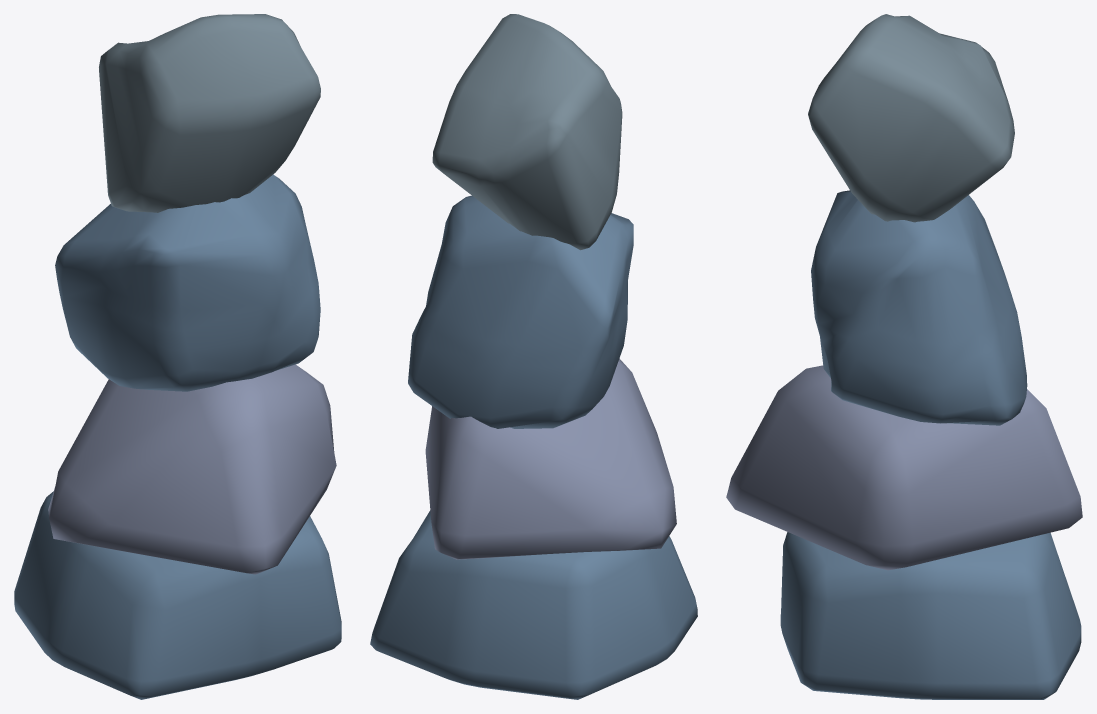
The model's file is StonePillarV3.gltf.
3 views of the same model, side by side, from view 1: azimuth 30°, elevation 25°; view 2: azimuth 150°, elevation 25°; view 3: azimuth 270°, elevation 25° (orthographic). The views are drawn at different scales.
Visible parts, largest first — view 1: StonePillarV3; view 2: StonePillarV3; view 3: StonePillarV3.
Boxes of the visible parts, x1=… form: StonePillarV3: x1=14, y1=14, x2=341, y2=699; StonePillarV3: x1=370, y1=14, x2=697, y2=699; StonePillarV3: x1=726, y1=14, x2=1082, y2=699.
Bounding box in the file's own units: 0.4021 × 0.9141 × 0.467.
